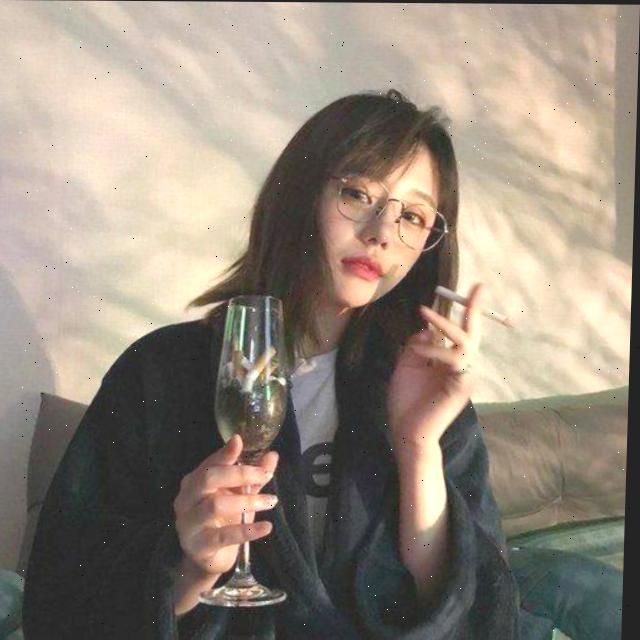cigarette: (434, 285, 519, 329), (244, 345, 278, 392)
